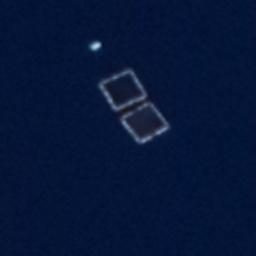square_solid: (114, 96, 173, 149), (96, 64, 155, 116)
